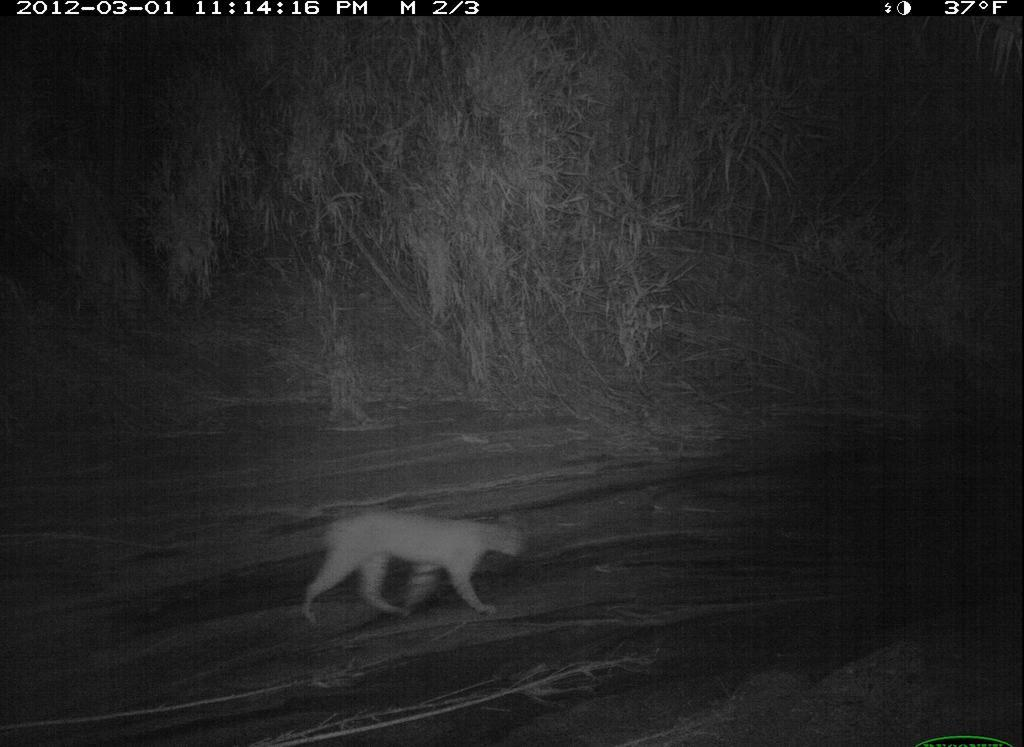bobcat: (296, 504, 534, 632)
